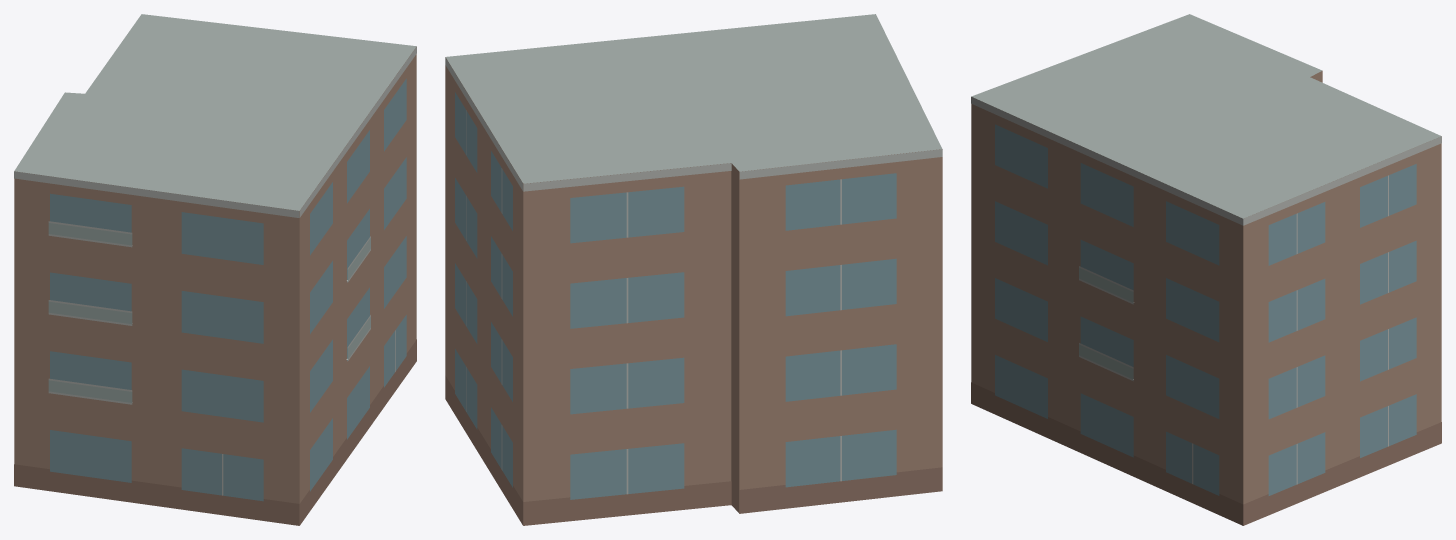
File: survey-upis-32887825.glb
3 renders of one model, left to right at view 1: azimuth 30°, elevation 25°; view 2: azimuth 150°, elevation 25°; view 3: azimuth 270°, elevation 25°, orthographic. The views are drawn at different scales.
Visible parts, largest first — view 1: survey-upis-32887825.tmp; view 2: survey-upis-32887825.tmp; view 3: survey-upis-32887825.tmp.
Part boxes in pixels (bbox=[...]): survey-upis-32887825.tmp: bbox=[14, 14, 416, 525]; survey-upis-32887825.tmp: bbox=[445, 14, 942, 525]; survey-upis-32887825.tmp: bbox=[971, 14, 1441, 525].
Bounding box in the file's own units: 15.16 × 10.6 × 14.73.
